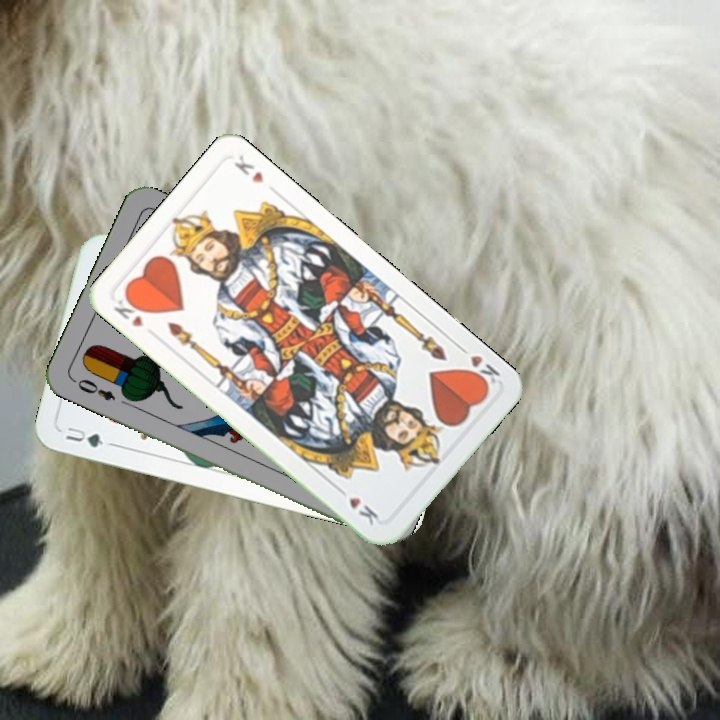EO: (68, 375, 118, 404)
GU: (61, 423, 107, 450)
HK: (453, 341, 503, 392), (109, 291, 150, 330)
